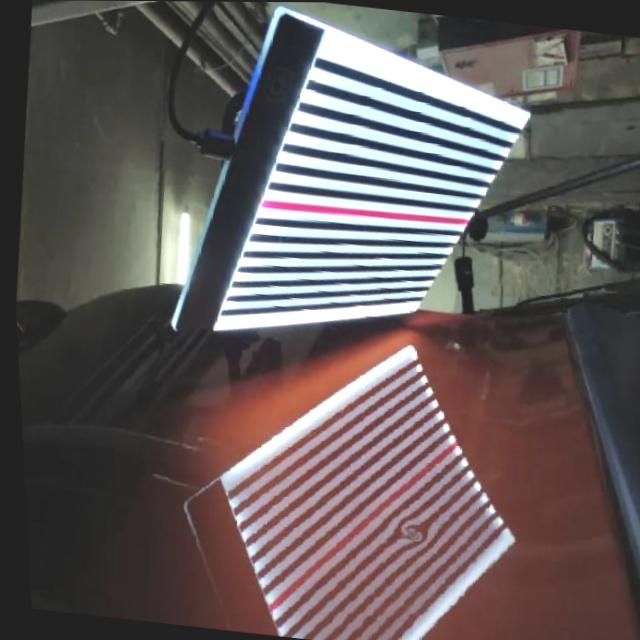PDR-Dent: (390, 506, 434, 554)
